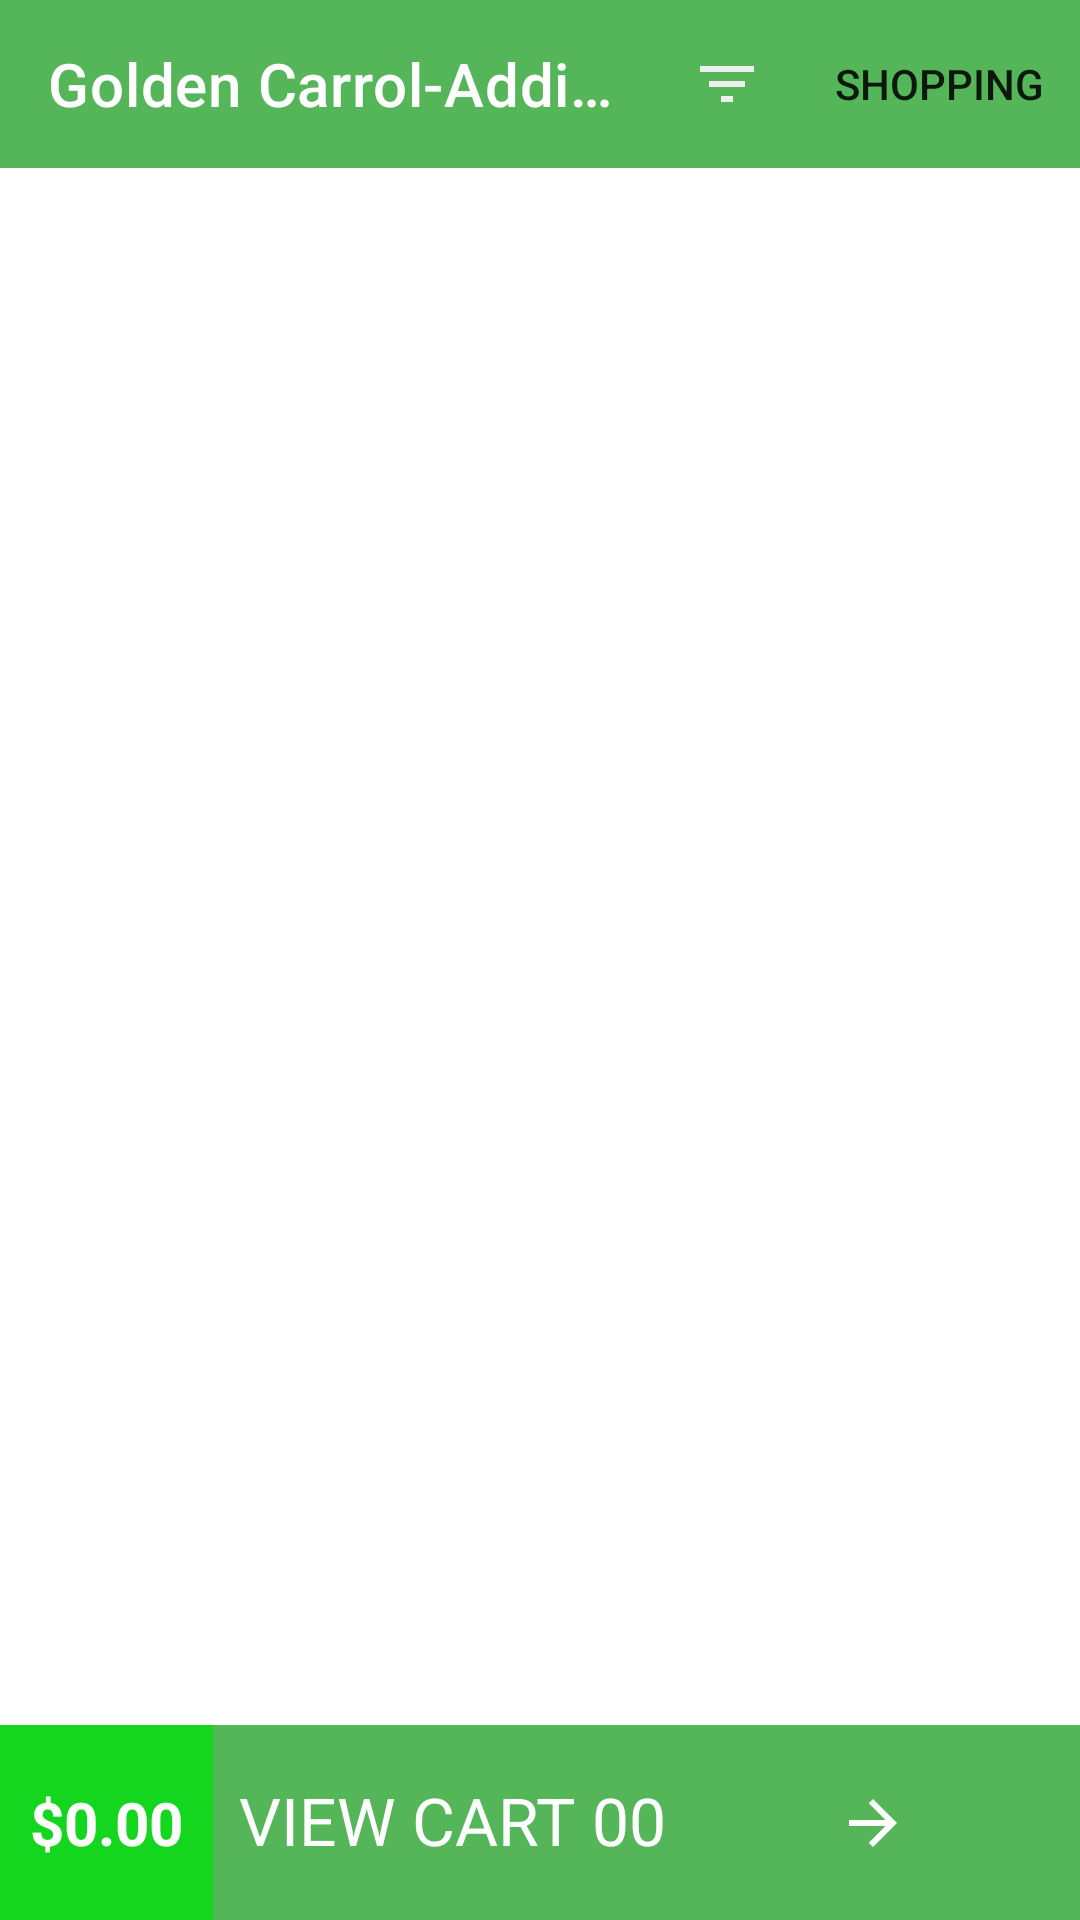

Icon click points for this 1080*1920 phone screenshot, format [x,y]:
arrow forward: [873,1823]
